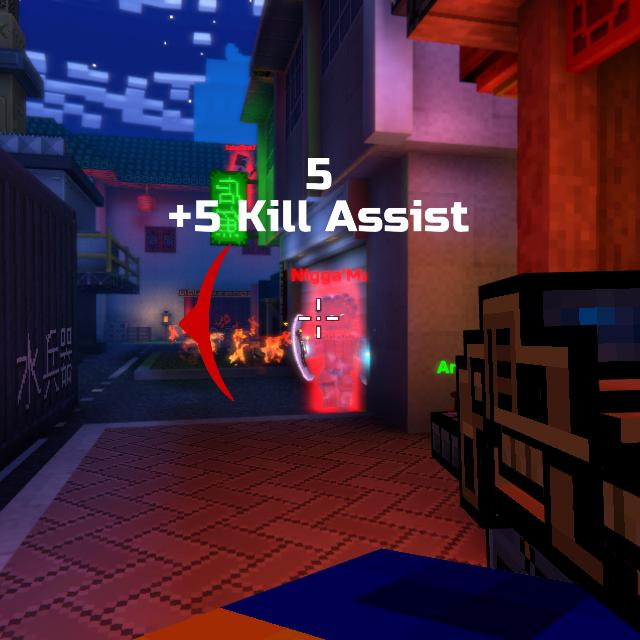Enemy: (303, 293, 367, 413), (234, 154, 251, 179)
